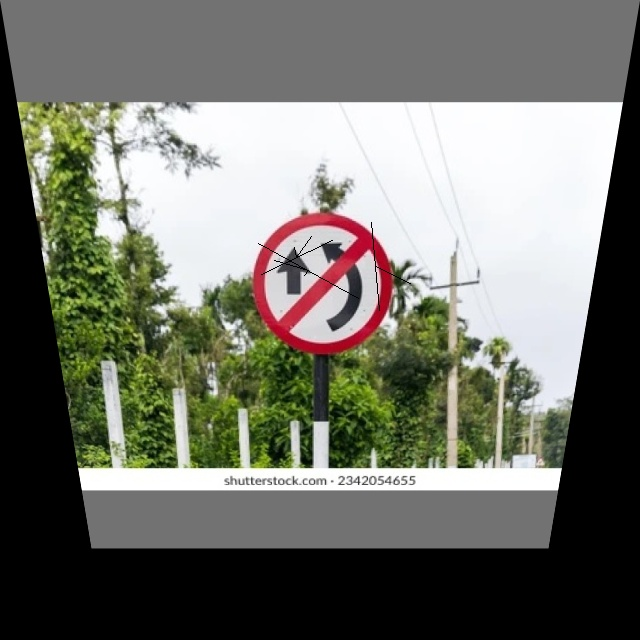Overtaking_Prohibited: (250, 218, 397, 357)
